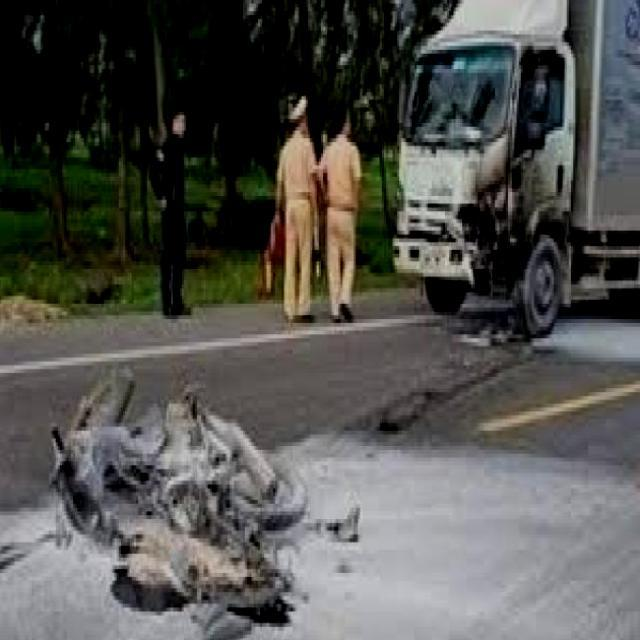accident: (27, 292, 325, 640), (414, 133, 591, 378)
